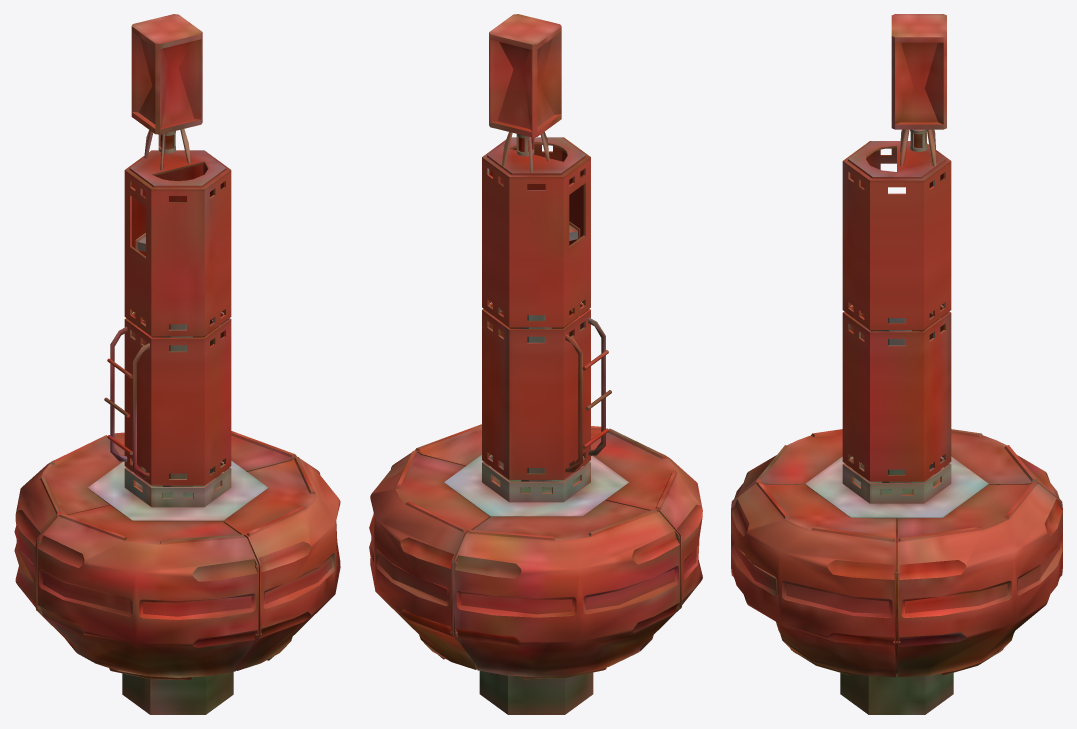
The picture shows the model from 3 angles, left to right: view 1: azimuth 30°, elevation 25°; view 2: azimuth 150°, elevation 25°; view 3: azimuth 270°, elevation 25°; orthographic projection. The views are drawn at different scales.
Parts seen in each view (by area): view 1: lateral_sea_marker; view 2: lateral_sea_marker; view 3: lateral_sea_marker.
Part boxes in pixels (left/top/right/bottom): lateral_sea_marker: left=14, top=14, right=340, bottom=714; lateral_sea_marker: left=369, top=14, right=702, bottom=714; lateral_sea_marker: left=731, top=14, right=1062, bottom=714.
Bounding box in the file's own units: 3 × 6.84 × 3.
Materials: 1 (1 with a texture image).
